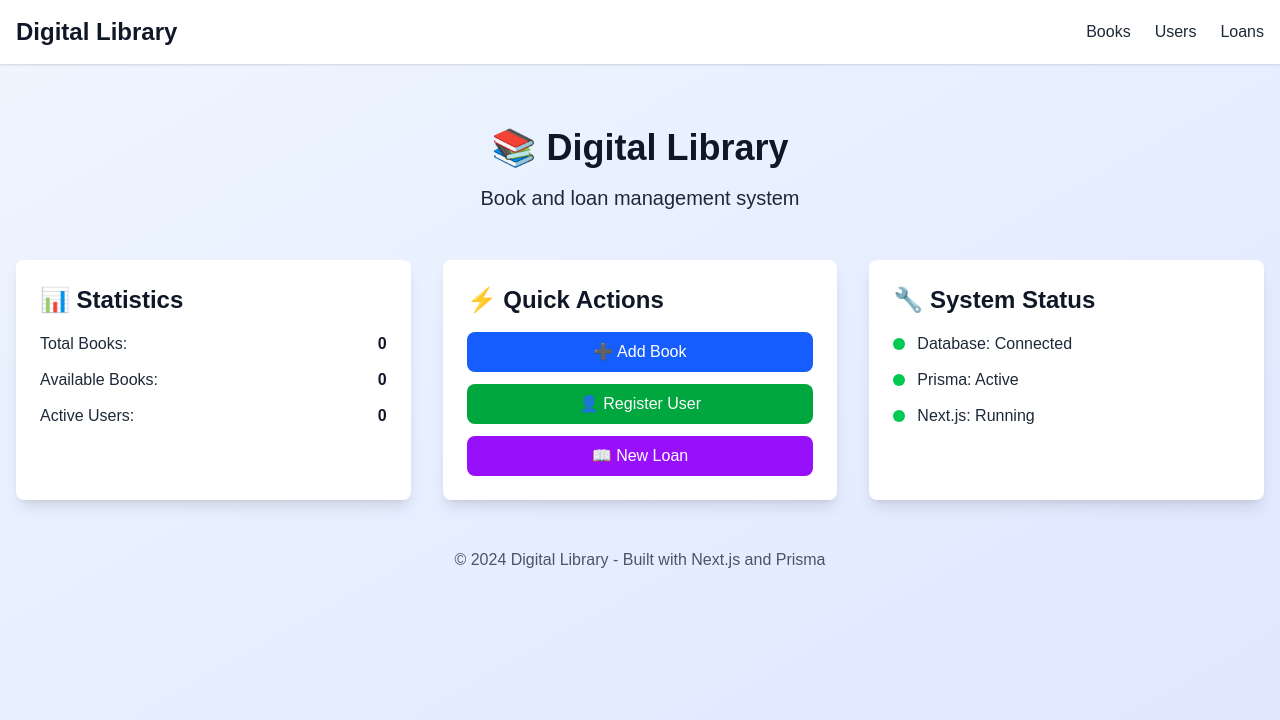
Test: Dashboard › should navigate to users page
Click the link to "/users" at (1176, 32), box [1155, 23, 1197, 40]
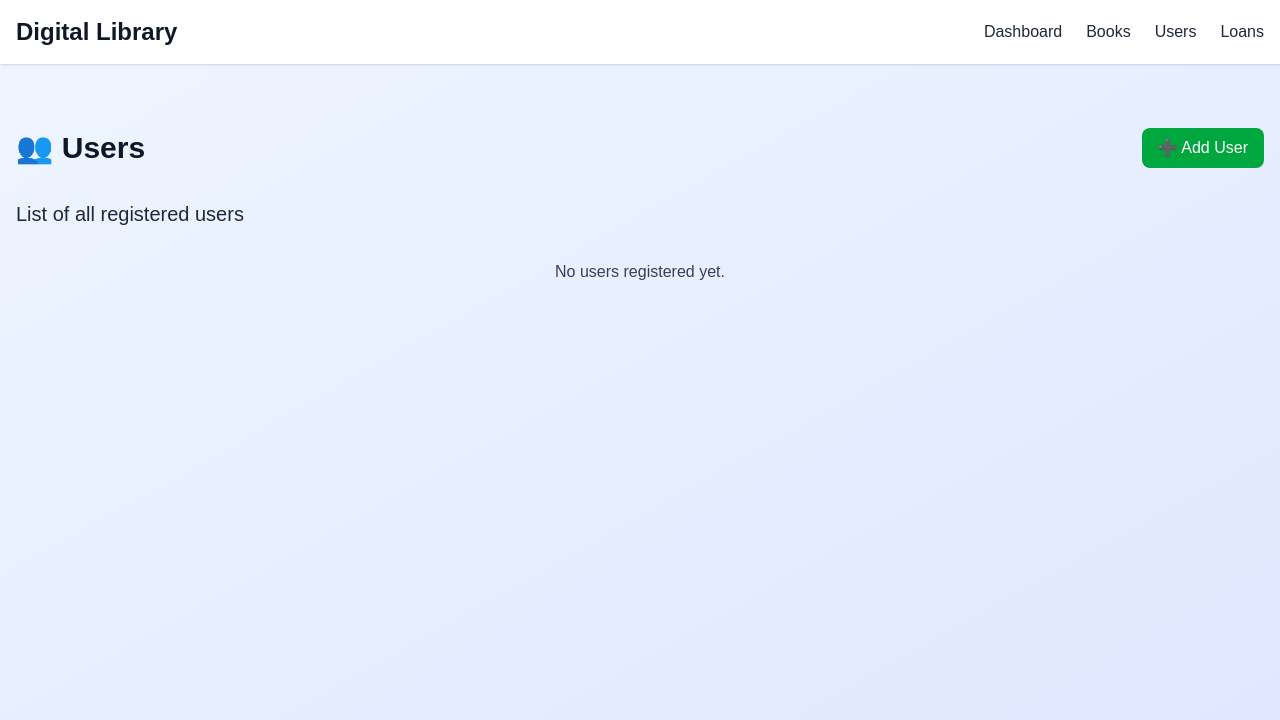
Check: the header shows "Users", box [16, 131, 145, 164]
